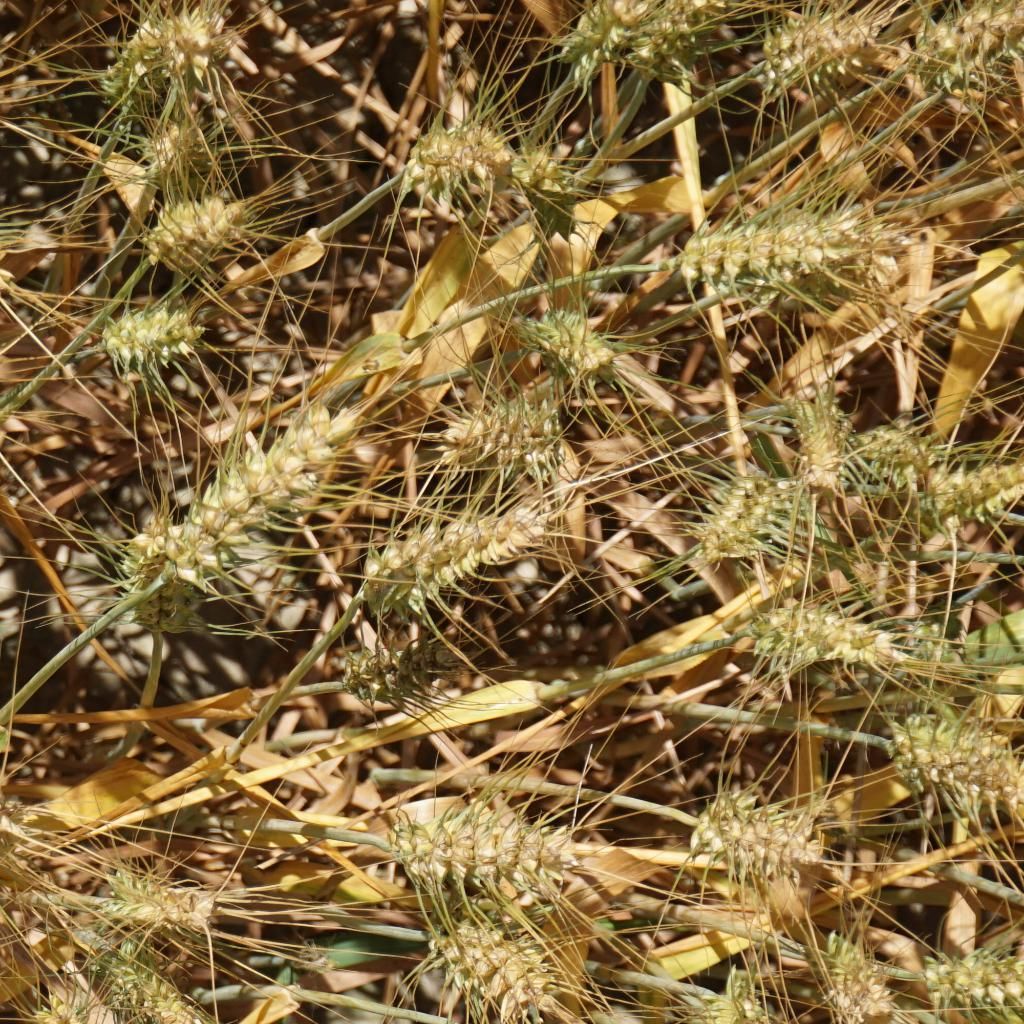0-0: (117, 382, 325, 598), (333, 484, 559, 600), (627, 216, 896, 307), (358, 777, 565, 894), (412, 909, 570, 1024), (884, 711, 1020, 822), (389, 98, 523, 203), (681, 787, 832, 879), (749, 589, 901, 678), (145, 177, 267, 286), (744, 7, 867, 93), (437, 403, 588, 471), (694, 461, 781, 578), (88, 941, 203, 1024), (513, 294, 616, 380), (104, 282, 207, 367), (813, 927, 901, 1024), (919, 942, 1024, 1021), (97, 862, 216, 929), (792, 385, 856, 508), (921, 456, 1024, 531), (102, 12, 169, 115), (329, 638, 449, 694), (130, 16, 235, 79), (120, 525, 179, 628), (566, 0, 638, 84), (637, 0, 704, 89), (913, 0, 1010, 59), (890, 611, 964, 681), (927, 39, 1014, 98), (855, 417, 934, 478), (515, 156, 588, 204), (440, 1003, 585, 1024), (146, 117, 204, 169), (30, 982, 93, 1024), (698, 988, 769, 1024), (0, 186, 19, 314), (0, 784, 16, 837)
